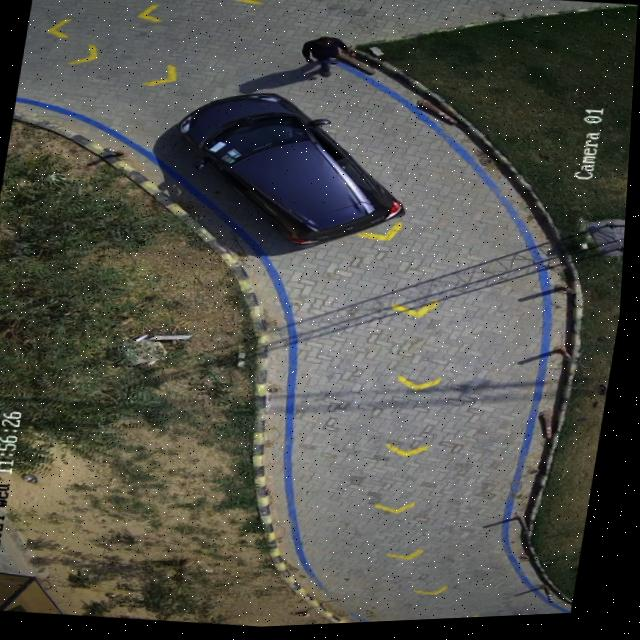car: (181, 94, 404, 248)
